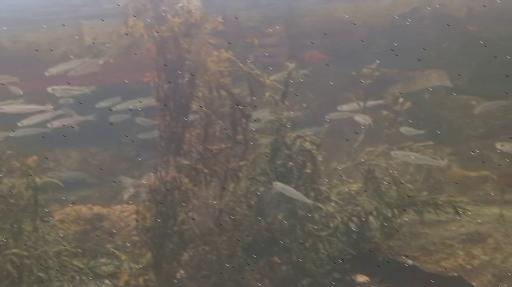Fish: (40, 171, 100, 199), (273, 181, 322, 206), (49, 109, 96, 130), (45, 56, 90, 75), (18, 109, 68, 126), (391, 150, 446, 165), (68, 56, 108, 75), (114, 96, 153, 110), (47, 85, 96, 96), (338, 99, 385, 110), (0, 127, 51, 137), (474, 100, 511, 113), (0, 103, 52, 112), (302, 50, 330, 65), (255, 45, 288, 55), (295, 124, 328, 134), (129, 96, 156, 108), (258, 35, 288, 45), (95, 96, 121, 107), (113, 99, 136, 110), (399, 126, 428, 134), (116, 177, 137, 188), (264, 23, 285, 34), (252, 107, 271, 119), (137, 130, 159, 139), (495, 142, 511, 153), (134, 118, 159, 125), (326, 112, 355, 118), (355, 115, 372, 125), (269, 72, 288, 80), (7, 84, 22, 94), (109, 114, 130, 121), (0, 98, 24, 104), (0, 76, 19, 82), (249, 122, 265, 129), (58, 97, 74, 103)
